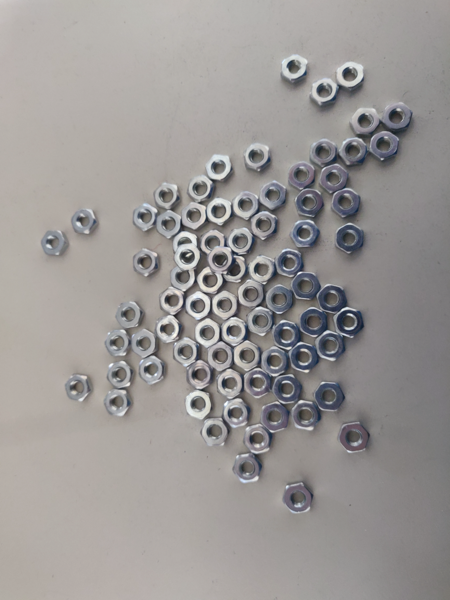nut: (282, 481, 316, 515), (273, 370, 304, 406), (340, 423, 373, 455), (334, 306, 366, 339), (233, 452, 265, 484), (334, 223, 367, 254), (313, 381, 347, 411), (264, 284, 293, 319), (272, 318, 301, 353), (287, 343, 318, 375), (214, 368, 245, 400), (280, 52, 310, 85), (296, 186, 326, 219), (105, 328, 134, 362), (248, 304, 276, 339), (339, 133, 368, 166), (159, 284, 186, 319), (243, 368, 273, 399), (318, 283, 348, 314), (301, 307, 331, 338), (294, 401, 323, 433), (291, 216, 320, 248), (292, 270, 321, 302), (227, 223, 256, 255), (320, 161, 349, 192), (205, 153, 234, 184), (335, 60, 367, 88), (260, 180, 288, 212), (139, 355, 168, 385), (333, 189, 363, 218), (171, 232, 200, 262), (251, 209, 279, 240), (317, 334, 348, 362), (185, 389, 212, 421), (385, 99, 412, 131), (261, 345, 288, 377), (185, 290, 212, 322), (114, 302, 146, 329), (202, 418, 231, 447), (312, 76, 340, 106), (233, 342, 263, 370), (174, 243, 202, 273), (195, 265, 223, 295), (106, 386, 133, 417), (373, 131, 400, 162), (236, 281, 267, 308), (198, 225, 225, 256), (133, 248, 161, 277), (223, 398, 251, 427), (351, 108, 380, 136), (232, 191, 260, 220), (105, 360, 134, 388), (221, 254, 249, 283), (66, 373, 93, 403), (246, 423, 272, 454), (172, 337, 198, 368), (155, 312, 180, 344), (71, 207, 98, 236), (185, 361, 214, 388), (210, 292, 239, 319), (41, 226, 67, 256), (262, 403, 288, 433), (207, 342, 233, 372), (310, 136, 335, 167), (289, 161, 316, 189), (131, 330, 157, 359), (181, 201, 205, 232), (194, 319, 221, 346), (206, 197, 232, 225), (276, 250, 304, 276), (244, 140, 269, 169), (250, 255, 275, 284), (133, 201, 156, 232), (156, 181, 180, 210), (156, 208, 180, 237), (208, 245, 231, 275), (189, 174, 213, 202), (224, 316, 246, 346), (170, 265, 193, 292)
